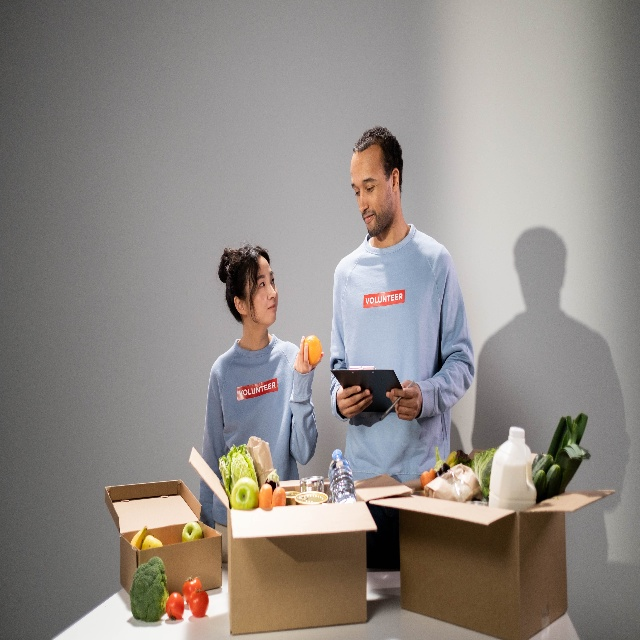Sin_guantes: (384, 377, 418, 422), (293, 335, 323, 375), (337, 386, 371, 421)
